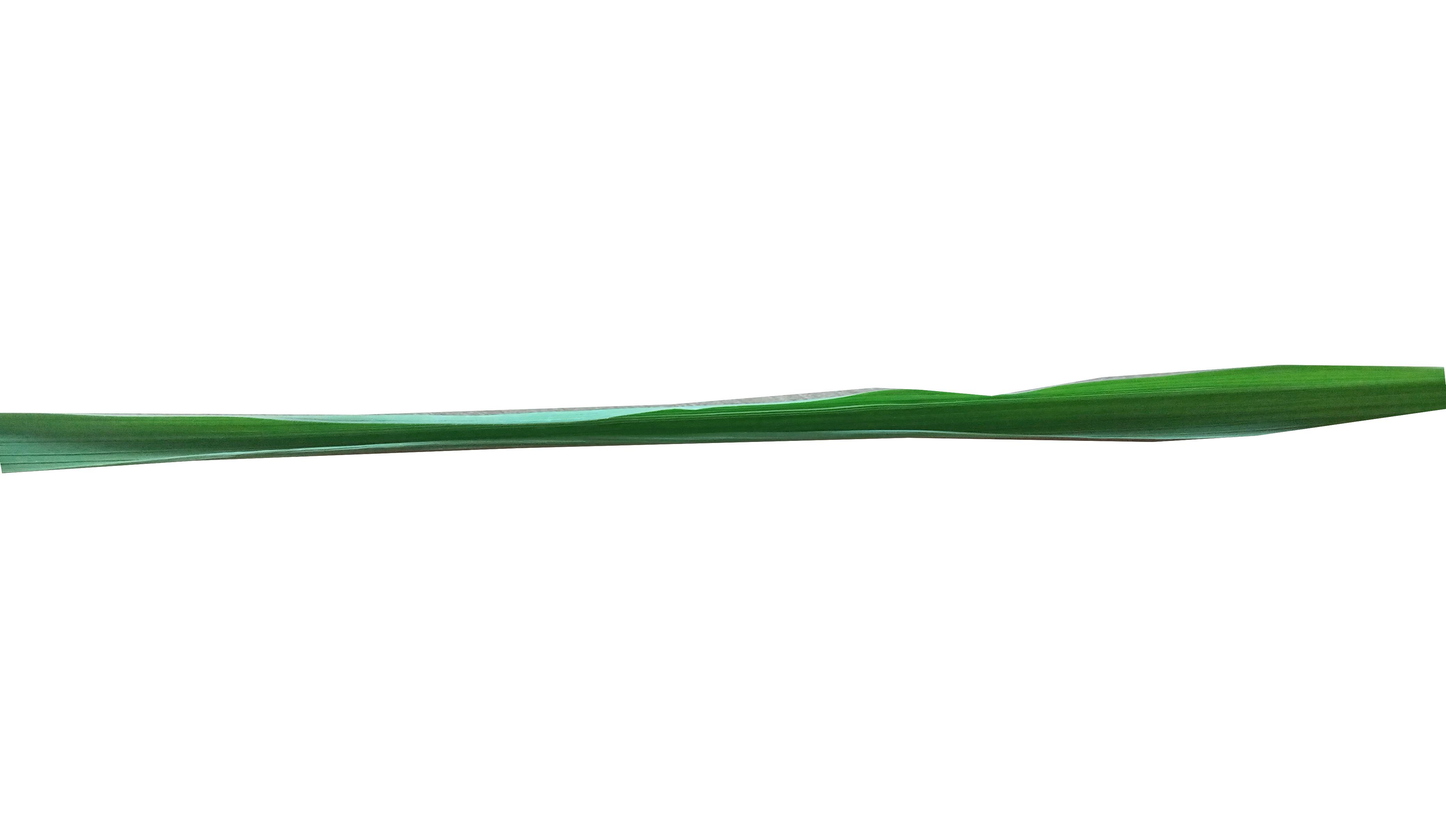Healthy: (0, 366, 1446, 473)
